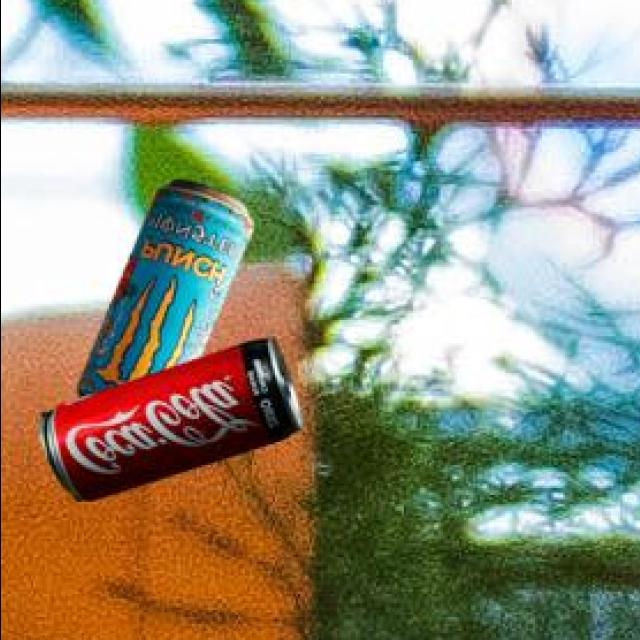logam: (43, 342, 305, 505), (79, 183, 257, 402)
